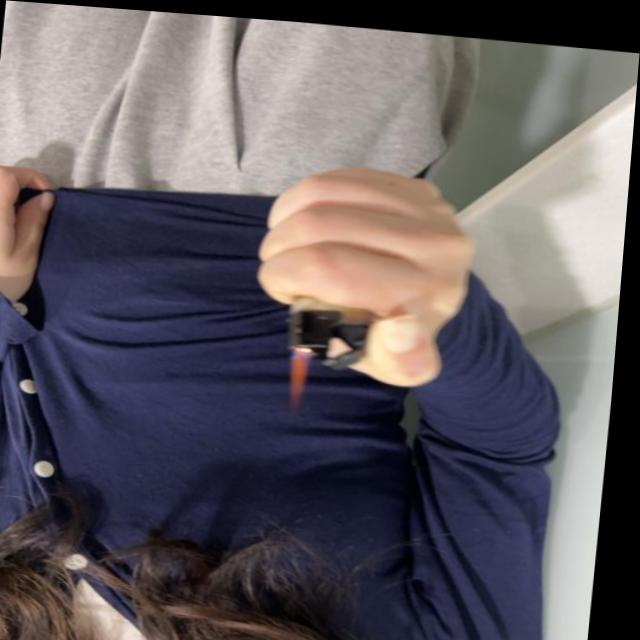Fire: (291, 343, 314, 402)
